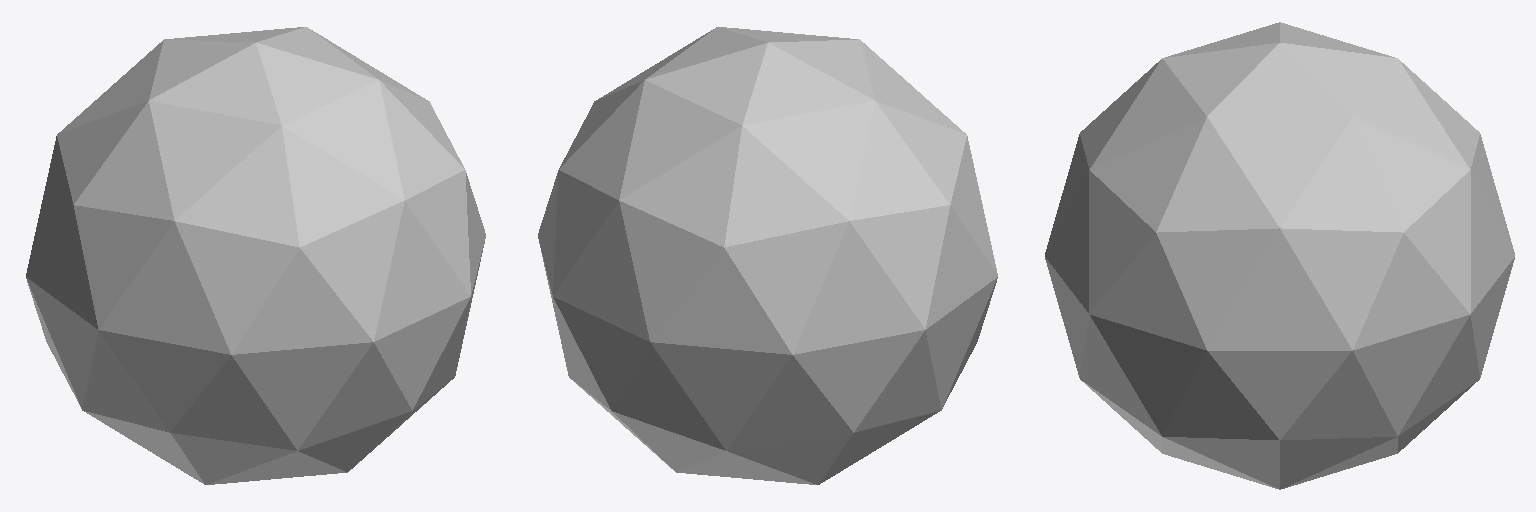
Rendered from Ball.obj.
3 views of the same model, side by side, from view 1: azimuth 30°, elevation 25°; view 2: azimuth 150°, elevation 25°; view 3: azimuth 270°, elevation 25° (orthographic).
Visible parts, largest first — view 1: Ball_Icosphere; view 2: Ball_Icosphere; view 3: Ball_Icosphere.
Boxes of the visible parts, box(x1,y1,x2,y2) form: Ball_Icosphere: box(26, 27, 485, 484); Ball_Icosphere: box(538, 27, 997, 484); Ball_Icosphere: box(1045, 22, 1514, 489).
Bounding box in the file's own units: 0.9511 × 1 × 1.